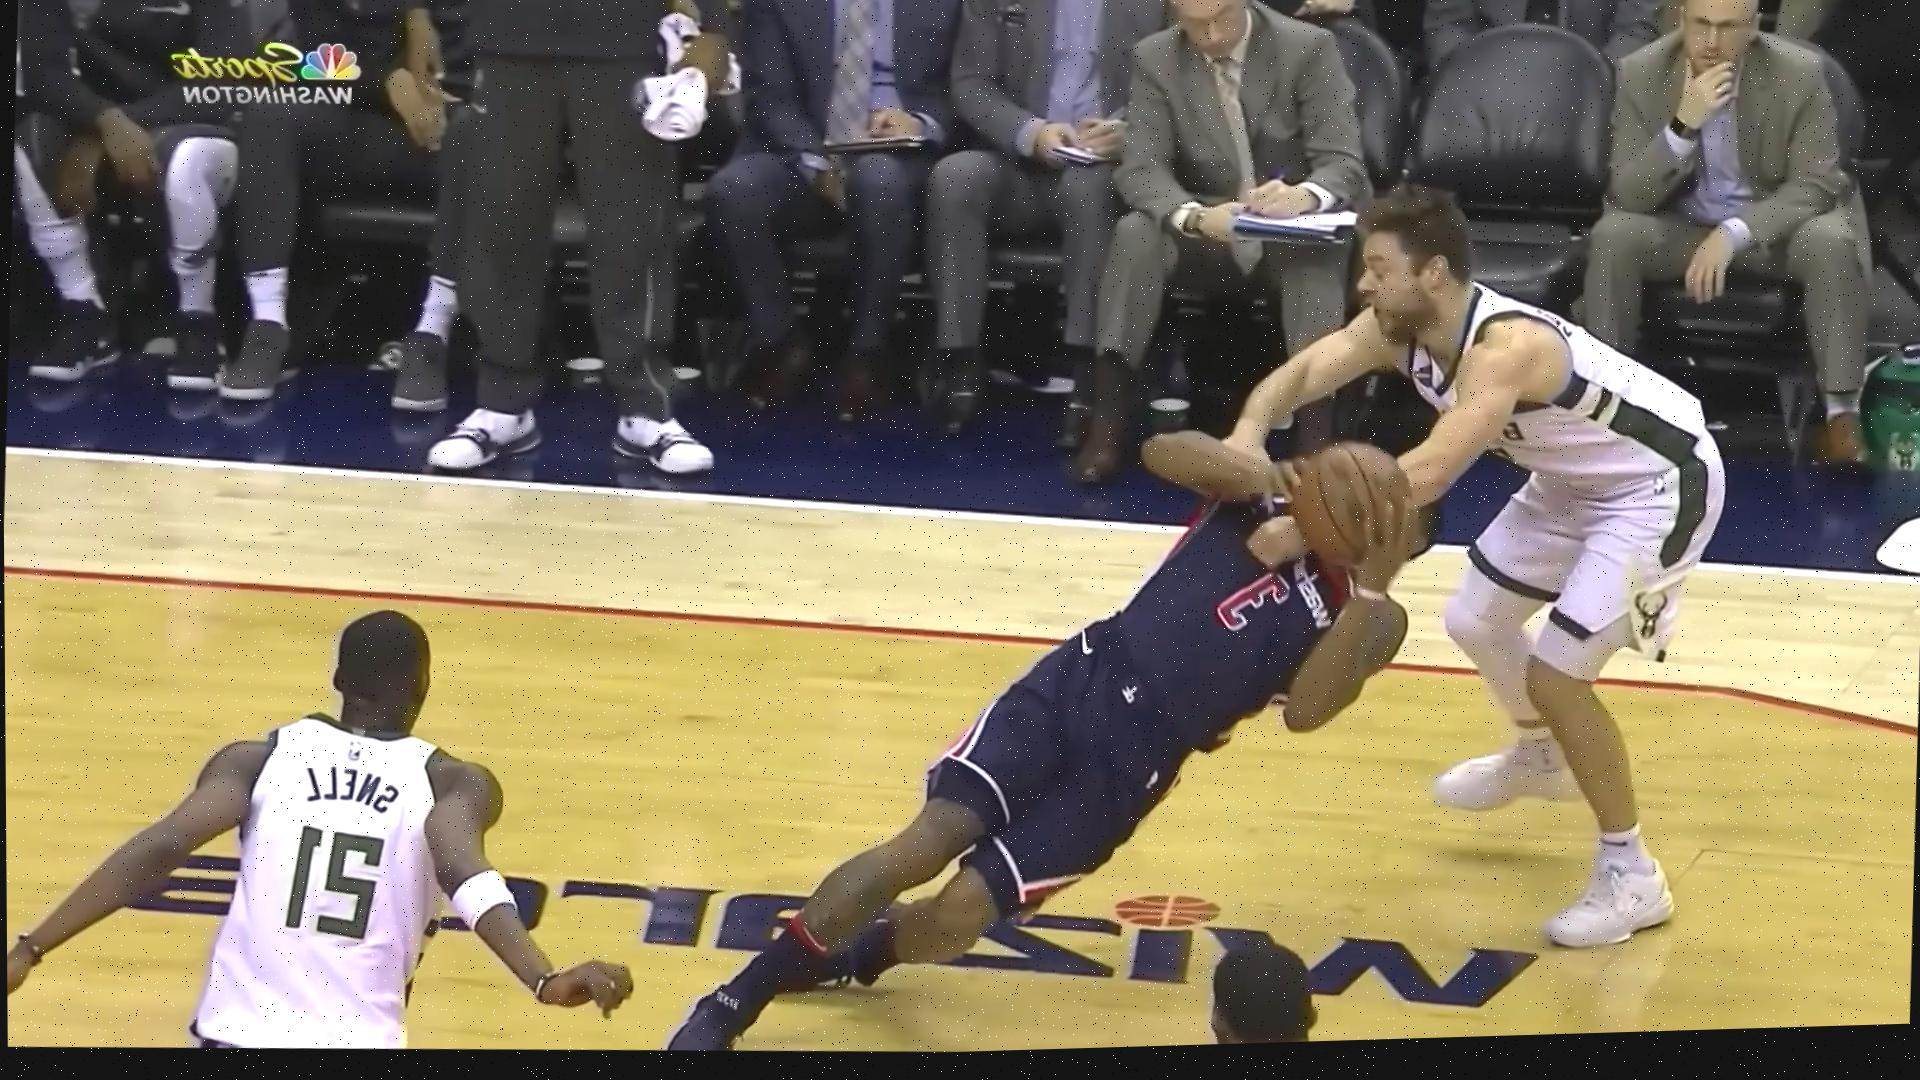foul: (767, 181, 1766, 1040)
